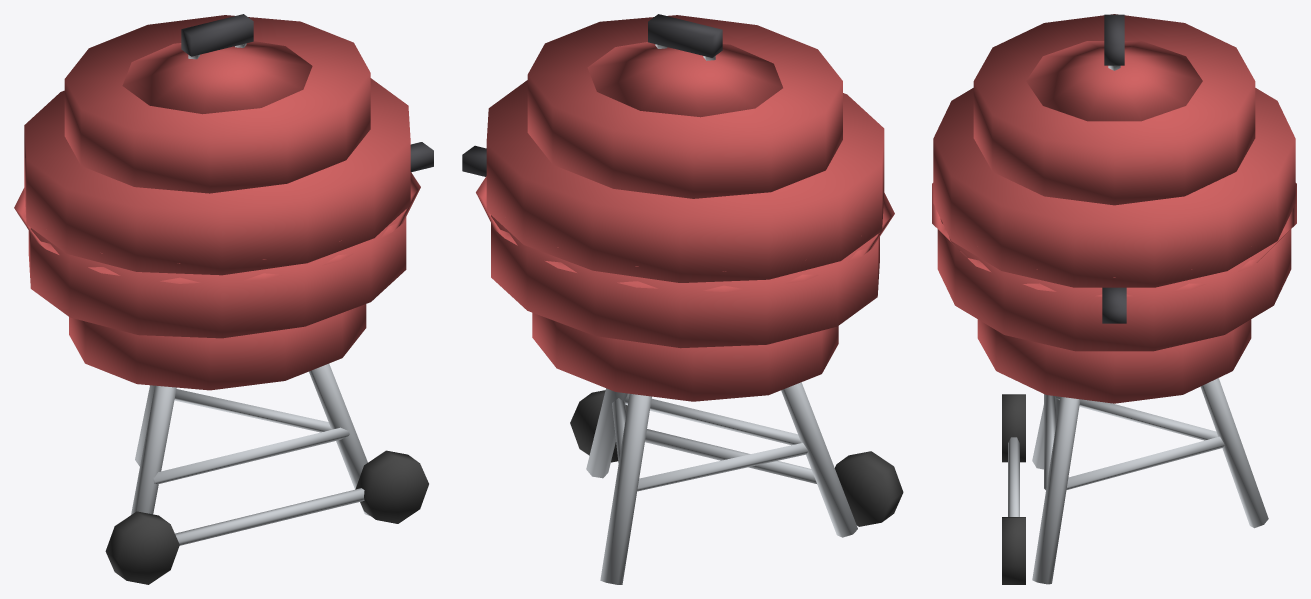
File: bbq-grill.glb
3 renders of one model, left to right at view 1: azimuth 30°, elevation 25°; view 2: azimuth 150°, elevation 25°; view 3: azimuth 270°, elevation 25°, orthographic. The views are drawn at different scales.
Parts seen in each view (by area): view 1: world; view 2: world; view 3: world.
Part boxes in pixels (x1=…): world: x1=14, y1=14, x2=433, y2=584; world: x1=462, y1=14, x2=903, y2=584; world: x1=932, y1=14, x2=1296, y2=584.
Size of the model in its own units: 1 by 1.2 by 0.8.
